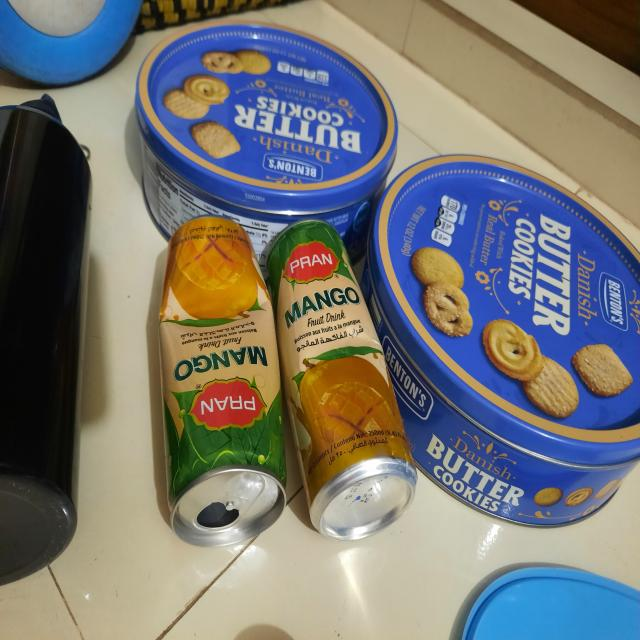Plastics: (441, 546, 640, 639)
can: (130, 24, 398, 558), (405, 138, 640, 523), (0, 82, 96, 594)
